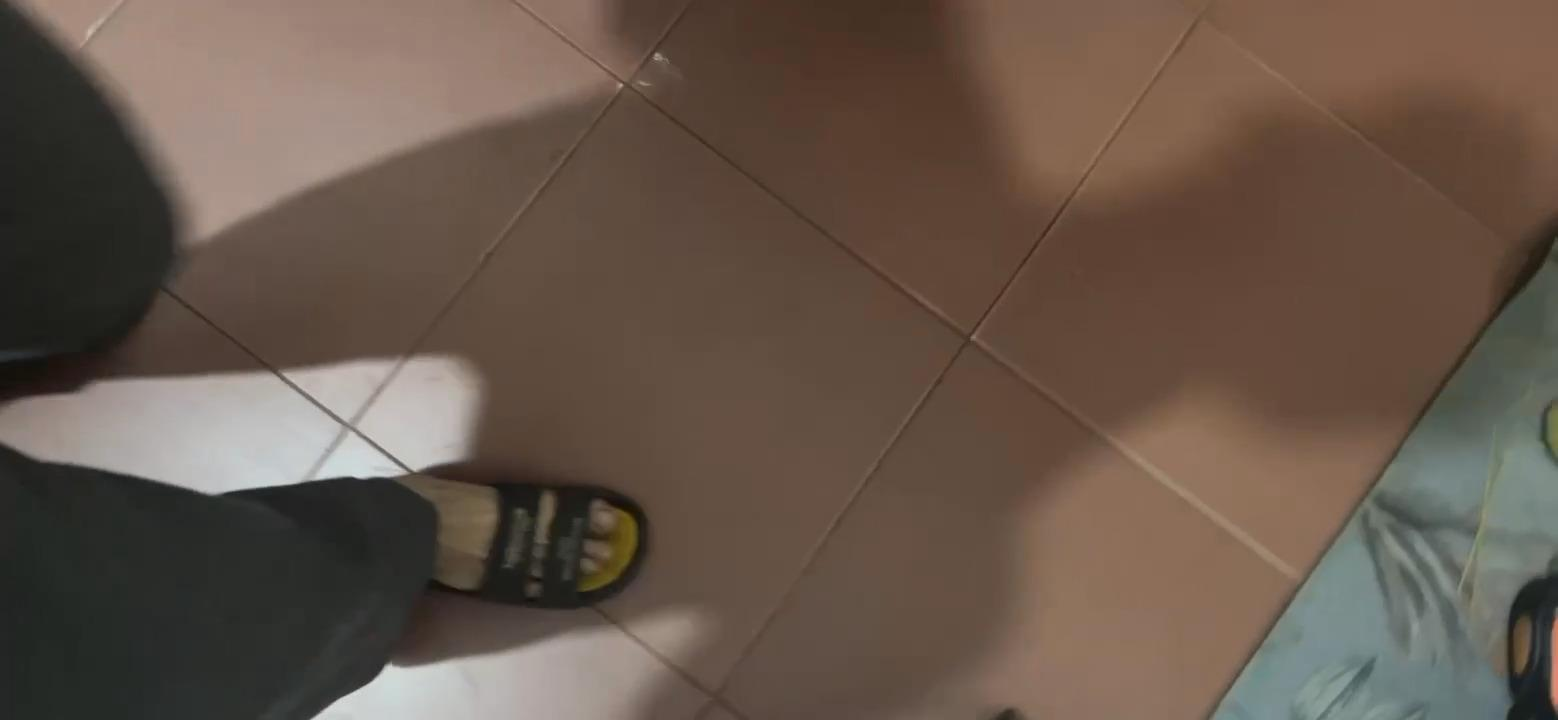no-boot: (375, 439, 645, 625)
